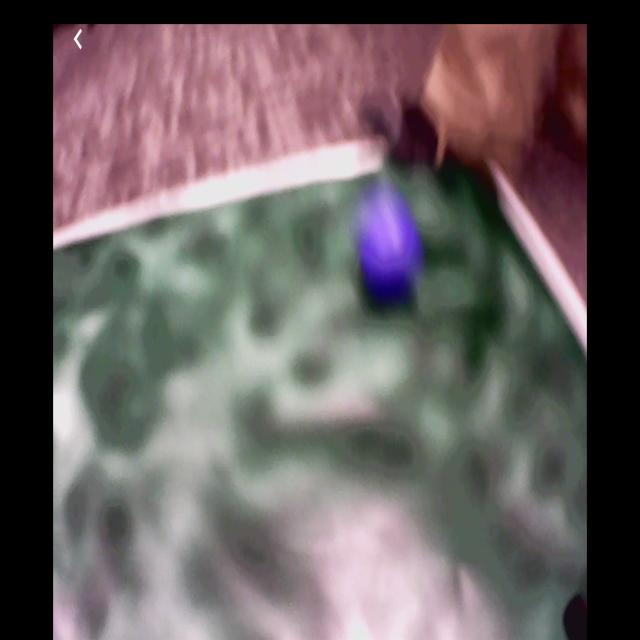ball: (361, 197, 417, 290)
